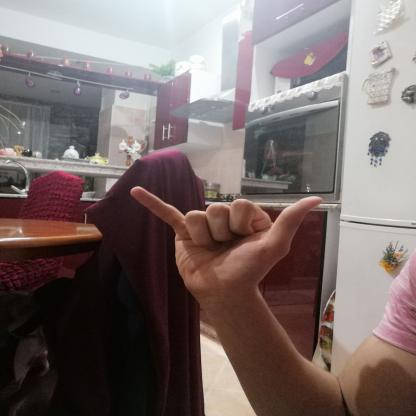YA: (111, 174, 336, 316)
